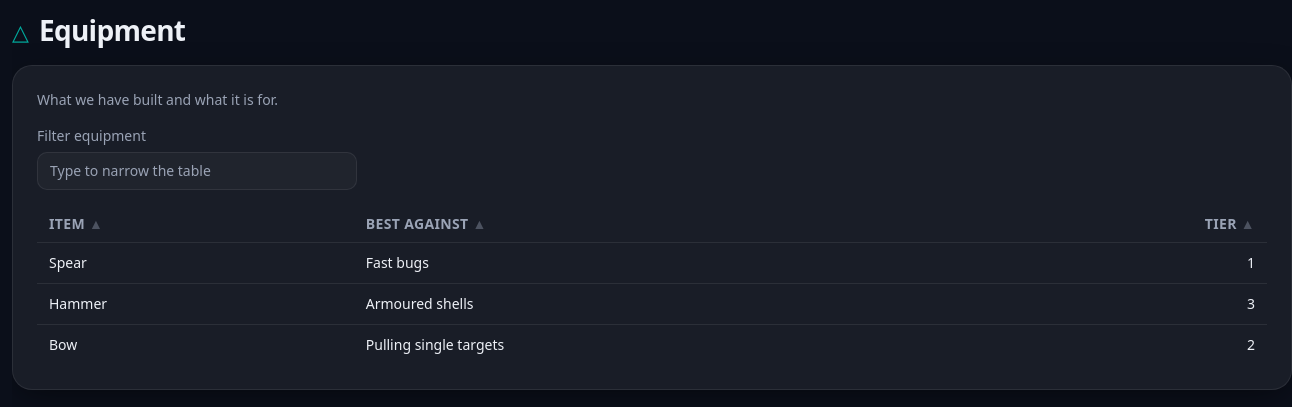
it: GuideTable › filters rows against every cell and reports when nothing matches
This screenshot has width=1292, height=407.
Type "armoured" into the search field labelled "Filter equipment" at (197, 171), box top-left (37, 152), bottom-right (357, 190)
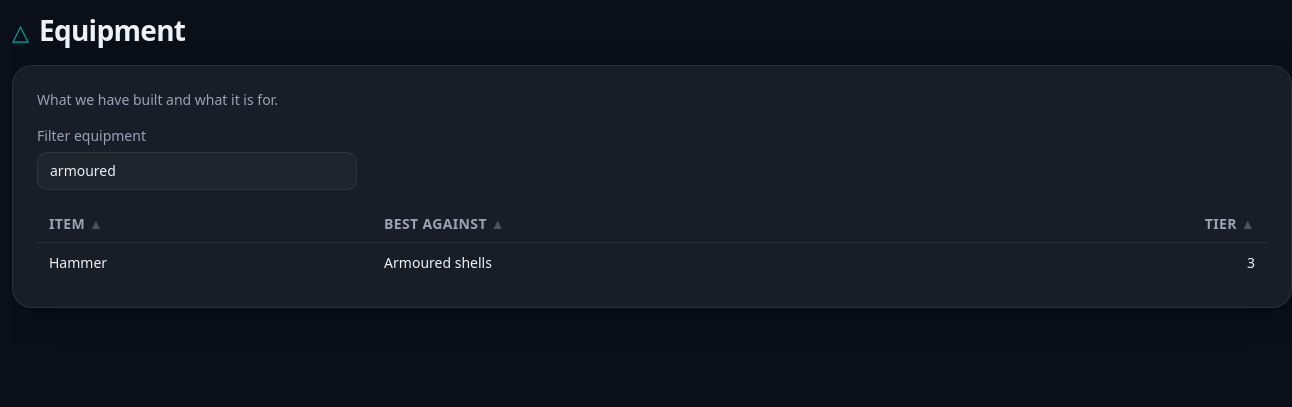
Replace the text in the search field labelled "Filter equipment" with "nothing here" at (197, 171), box top-left (37, 152), bottom-right (357, 190)
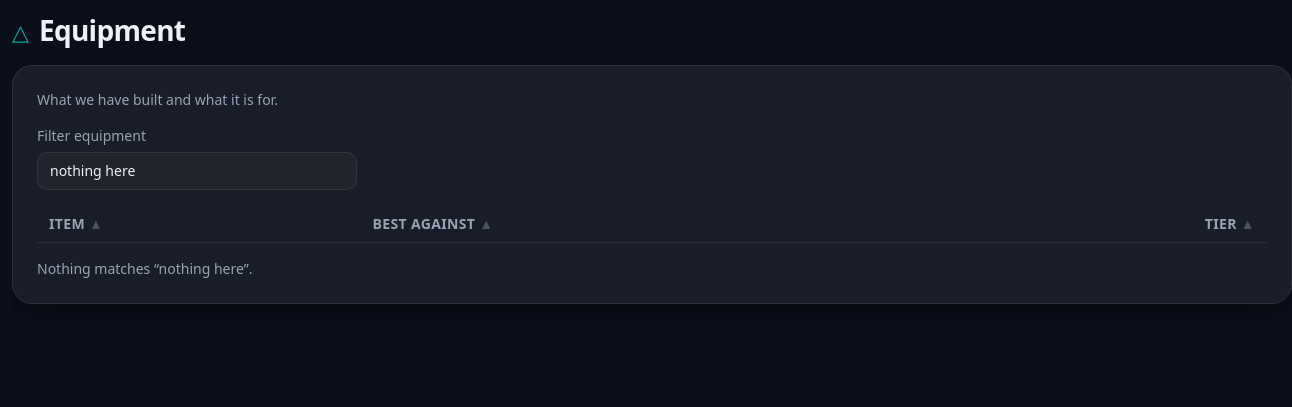
Now the text "Nothing matches “nothing here”." is shown, box top-left (37, 259), bottom-right (252, 278)
